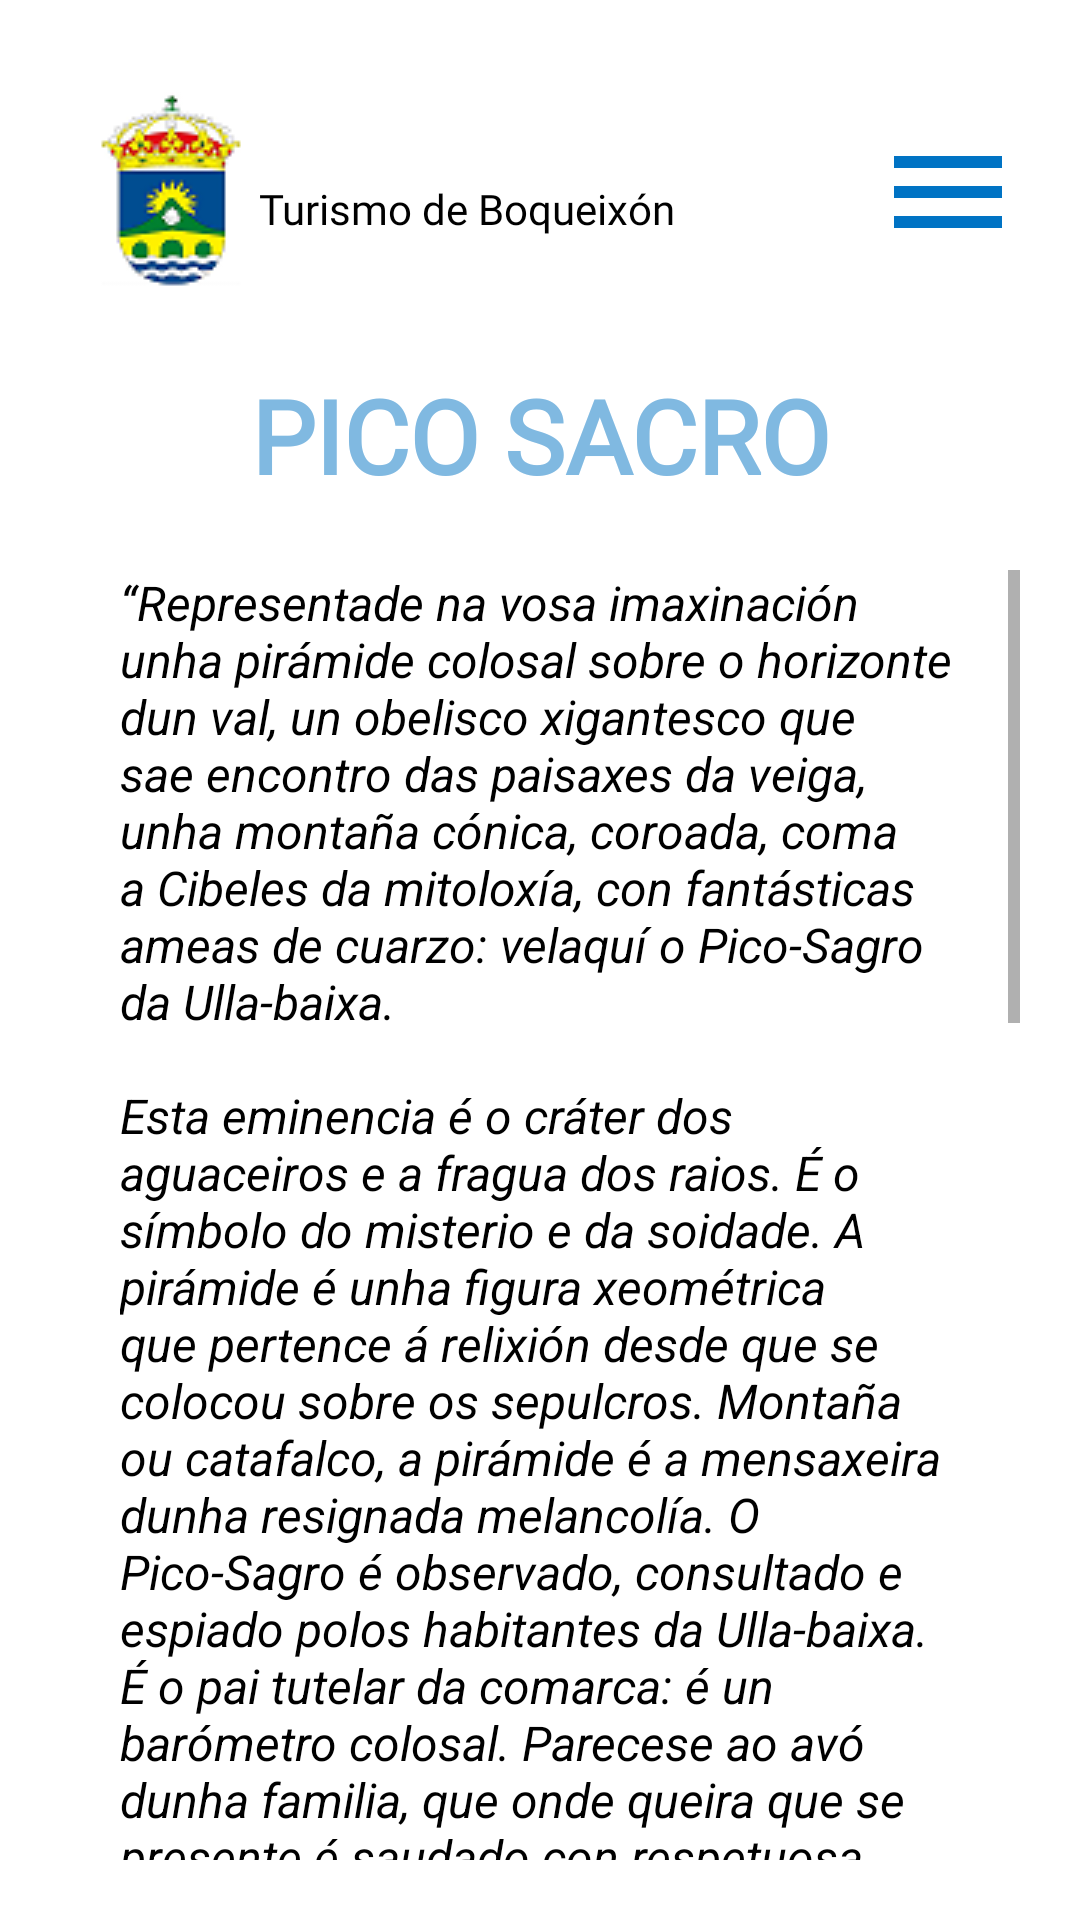

Locate icon controls on the screen. Image size 1080*1920, boxes as (x1,y1,x2,y2).
hamburguesa: (894,156,1002,228)
